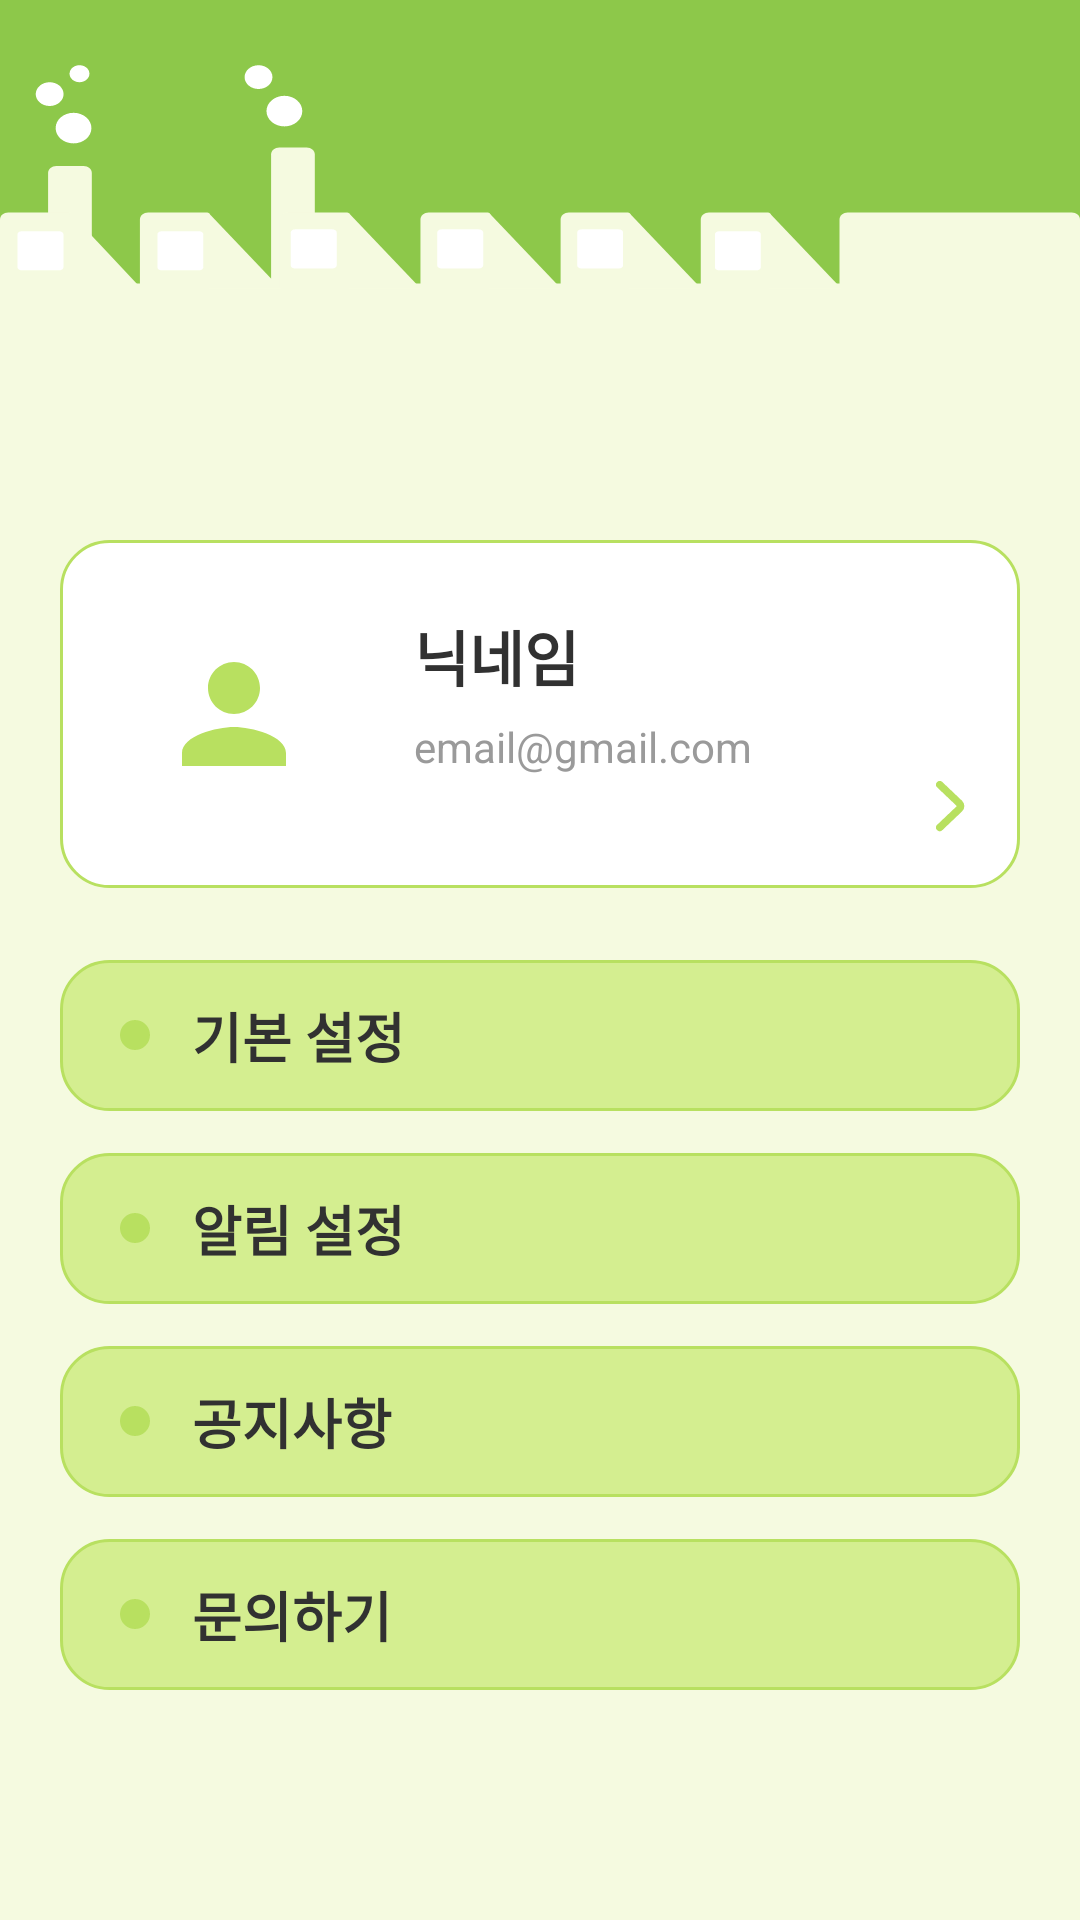

Screen size 1080*1920. Icon name, then its box in pixels as bbox(x1, y1, x2, y2):
프로필 사진: bbox(182, 662, 286, 766)
